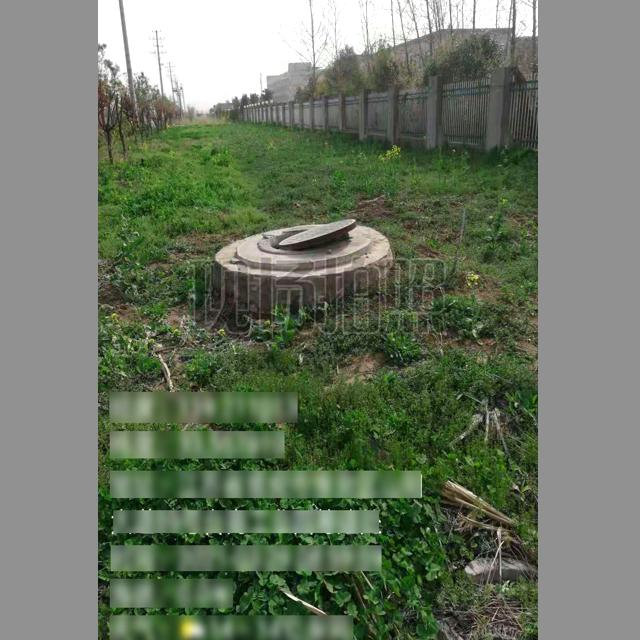uncovered: (237, 219, 375, 264)
